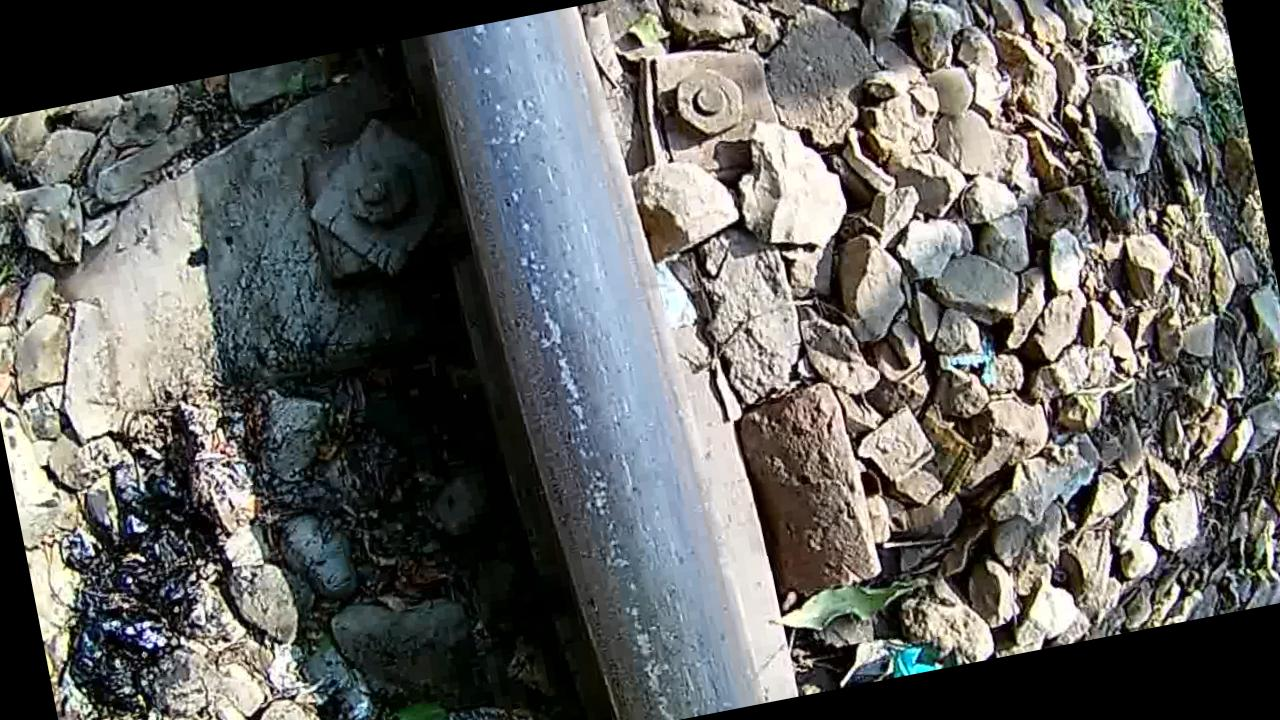clip_missing: (414, 0, 753, 720)
